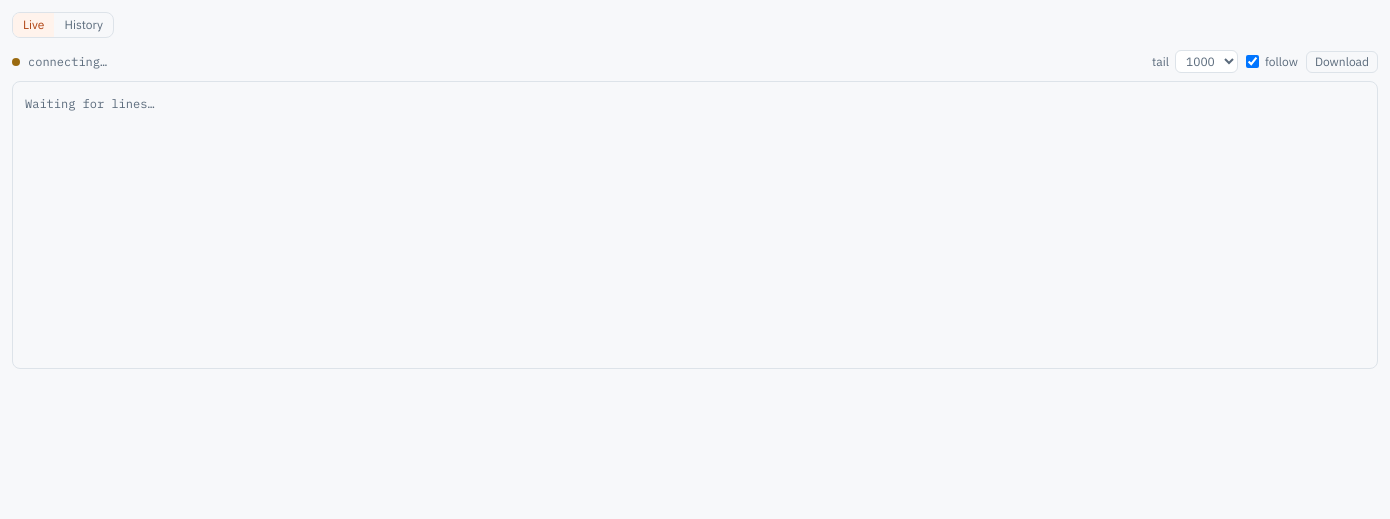
Test: LogsPanel — сегмент Live | История › «показать ещё» → второй вызов несёт end (первый — нет), дозапись вниз списка
Click the button "History": [84, 25] box [54,13,113,37]
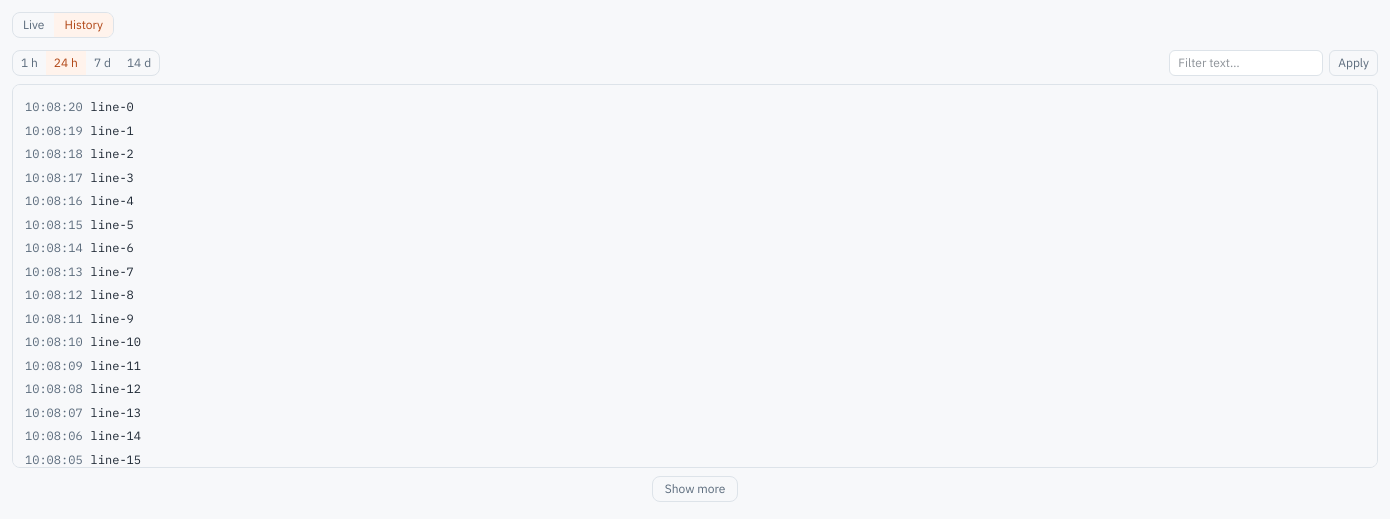
Expected: the text "line-0" is shown, [91,99,134,114]
Expected: the button "Show more" is shown
Click the button "Show more": [695, 489] box [652,476,738,502]
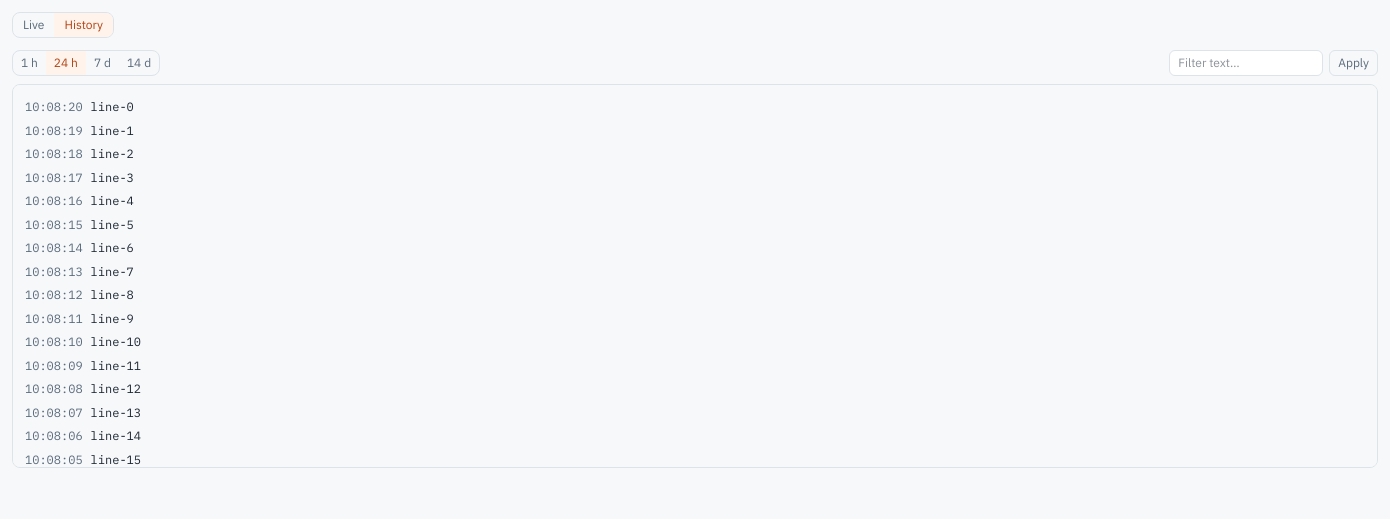
Expected: the text "line-0" is shown, [91,99,134,114]
Expected: the button "Show more" is gone
